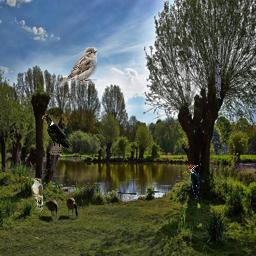Crow: (42, 115, 73, 155), (215, 59, 221, 99)
Cuckoo: (31, 178, 43, 212)
Sparrow: (58, 47, 97, 87)
Woodpecker: (188, 164, 204, 204)
